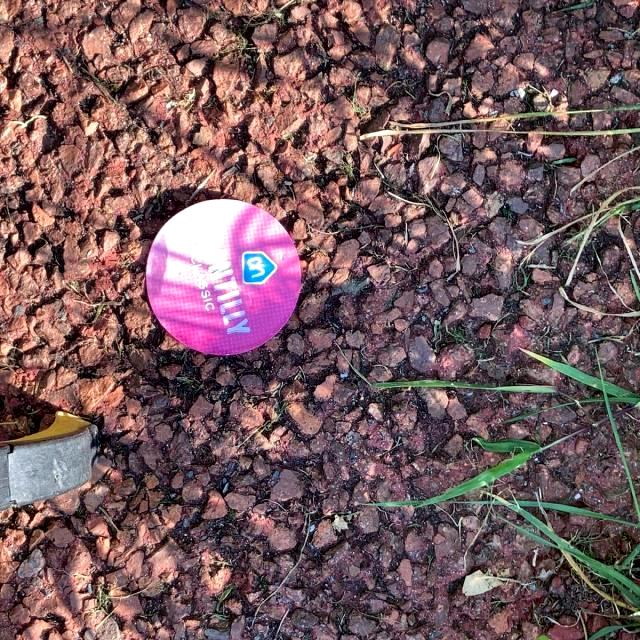Paper: (143, 197, 303, 357)
